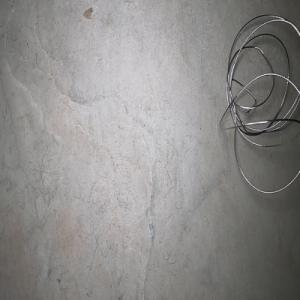Wire: (218, 14, 299, 193)
